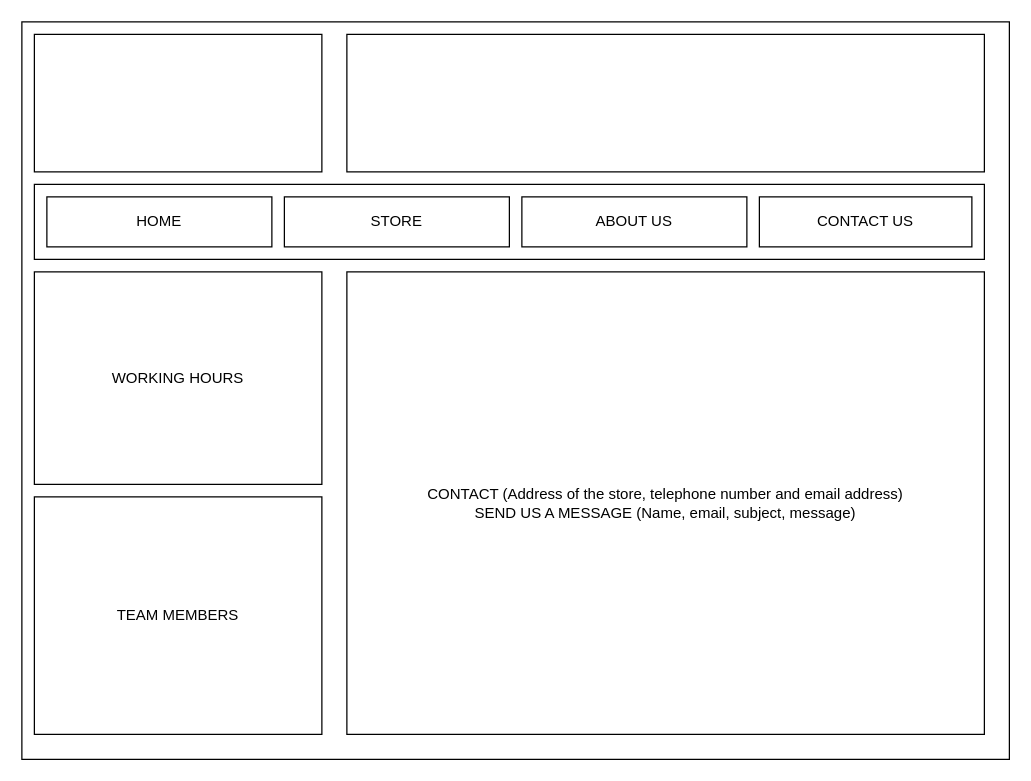
The diagram is 1031 pixels wide and 781 high, and some of its shapes have lost their labels. The centre of each missing label's shape, as x and y in pixels:
LOGO: (x=177, y=102)
TITLE OF WEBSITE: (x=665, y=102)
